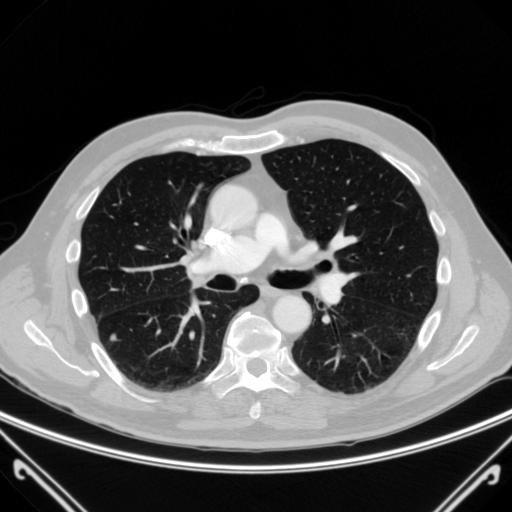nodule: (107, 332, 118, 343)
